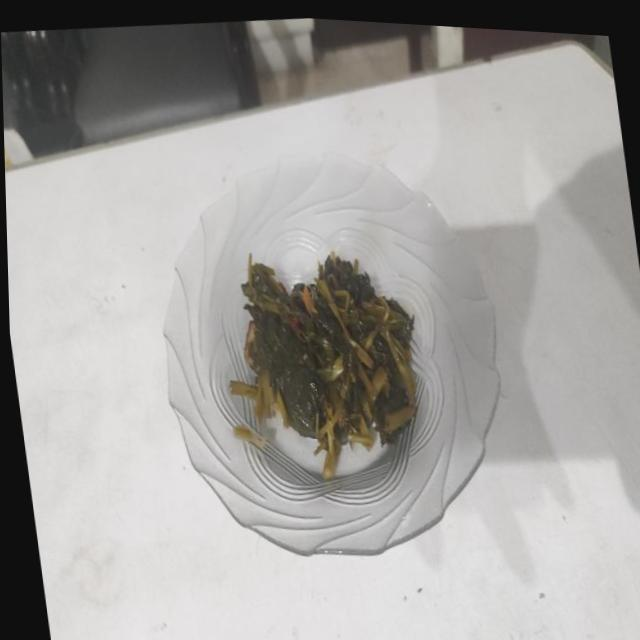tumis_kangkung: (229, 251, 416, 478)
